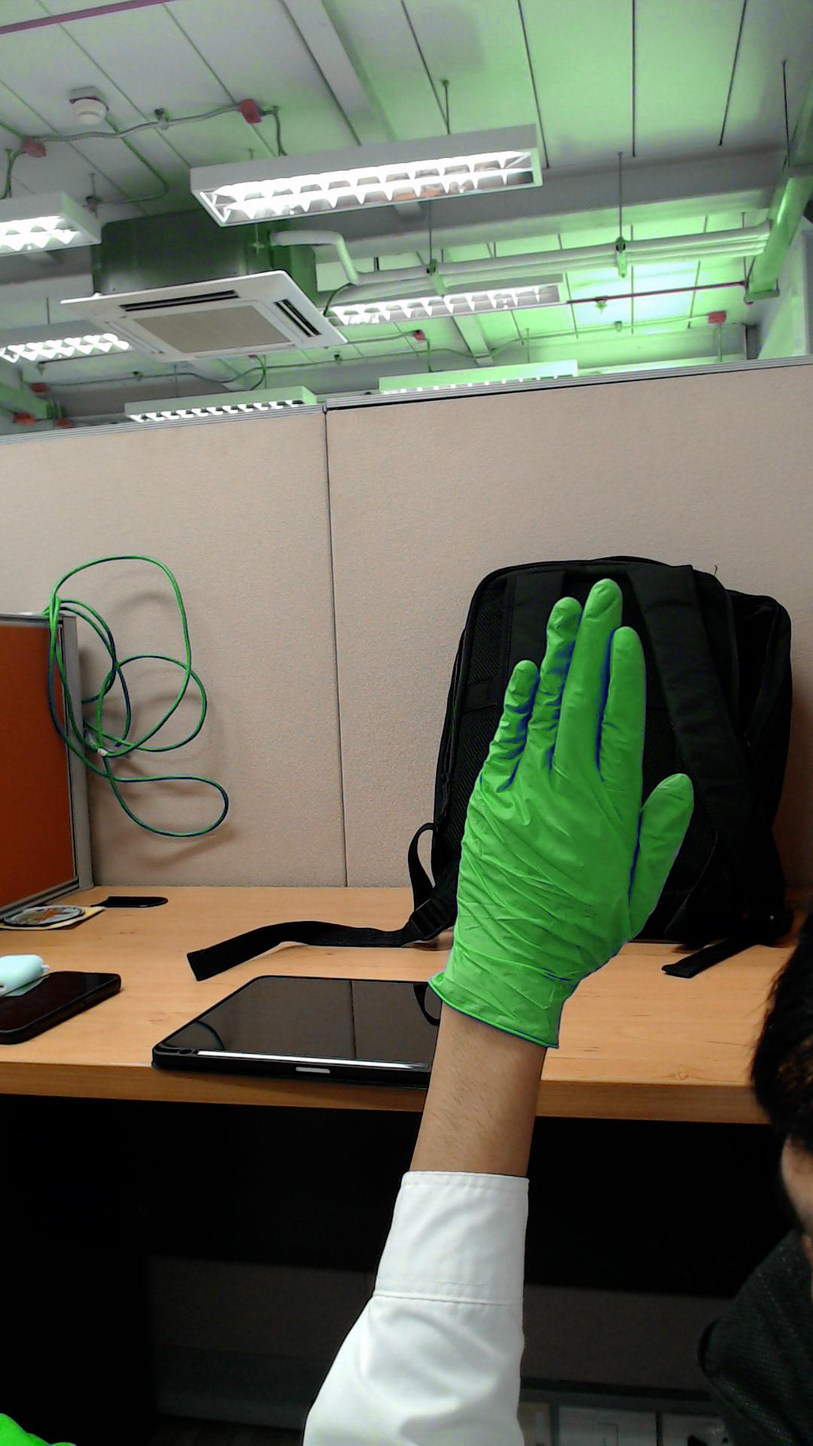gloves: (442, 565, 704, 975)
